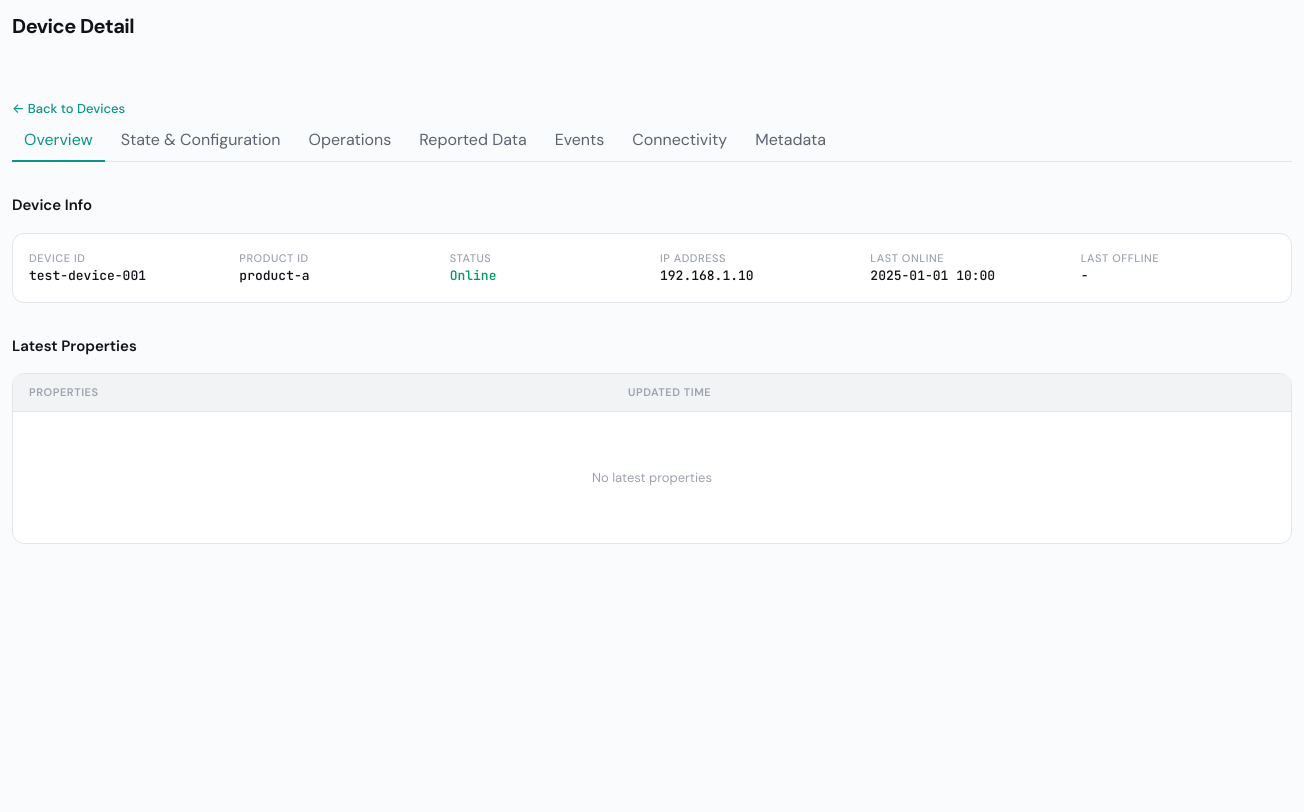
Reported Data section › renders property history table with mock data after switching views
Step 1. Click the tab "Reported Data" → (473, 141), box [407,120,539,162]
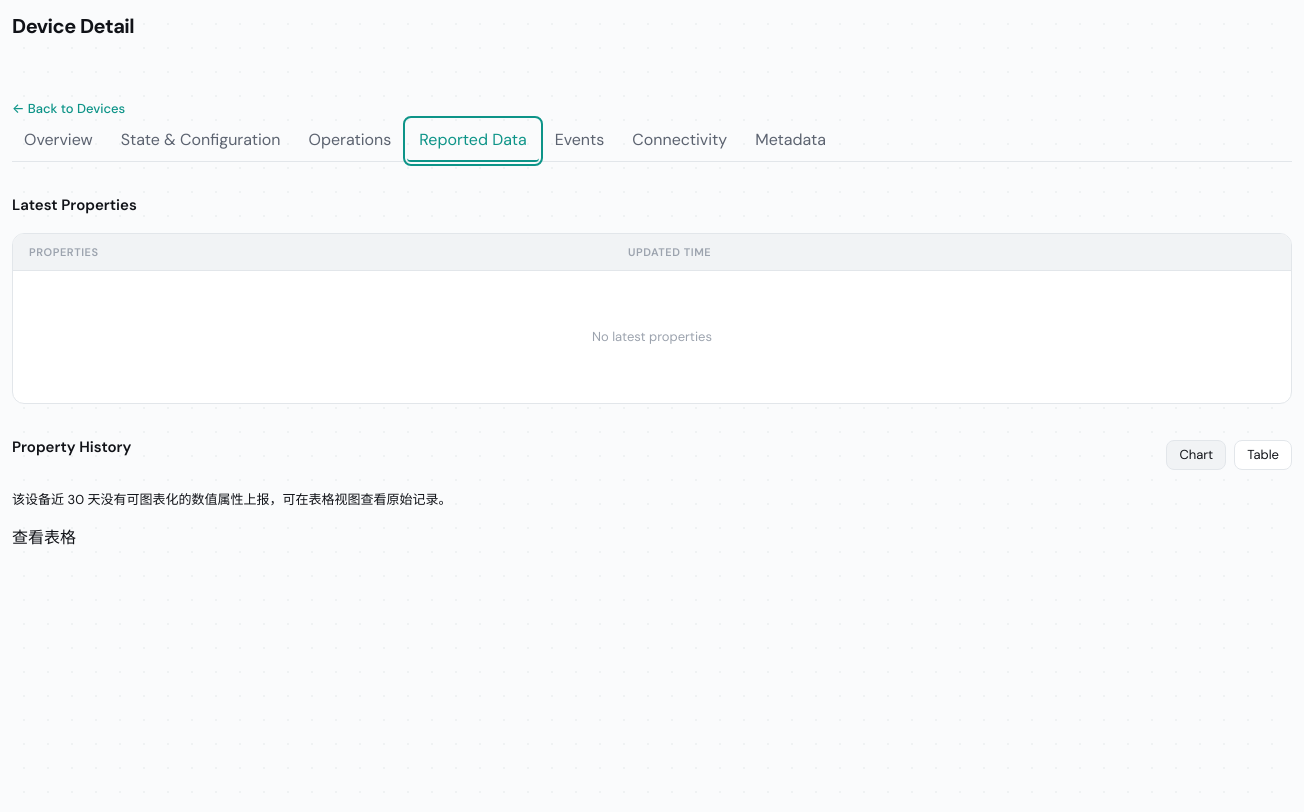
Step 2. Click the button with test id "property-history-view-table" → (1263, 455), box [1234,440,1292,470]
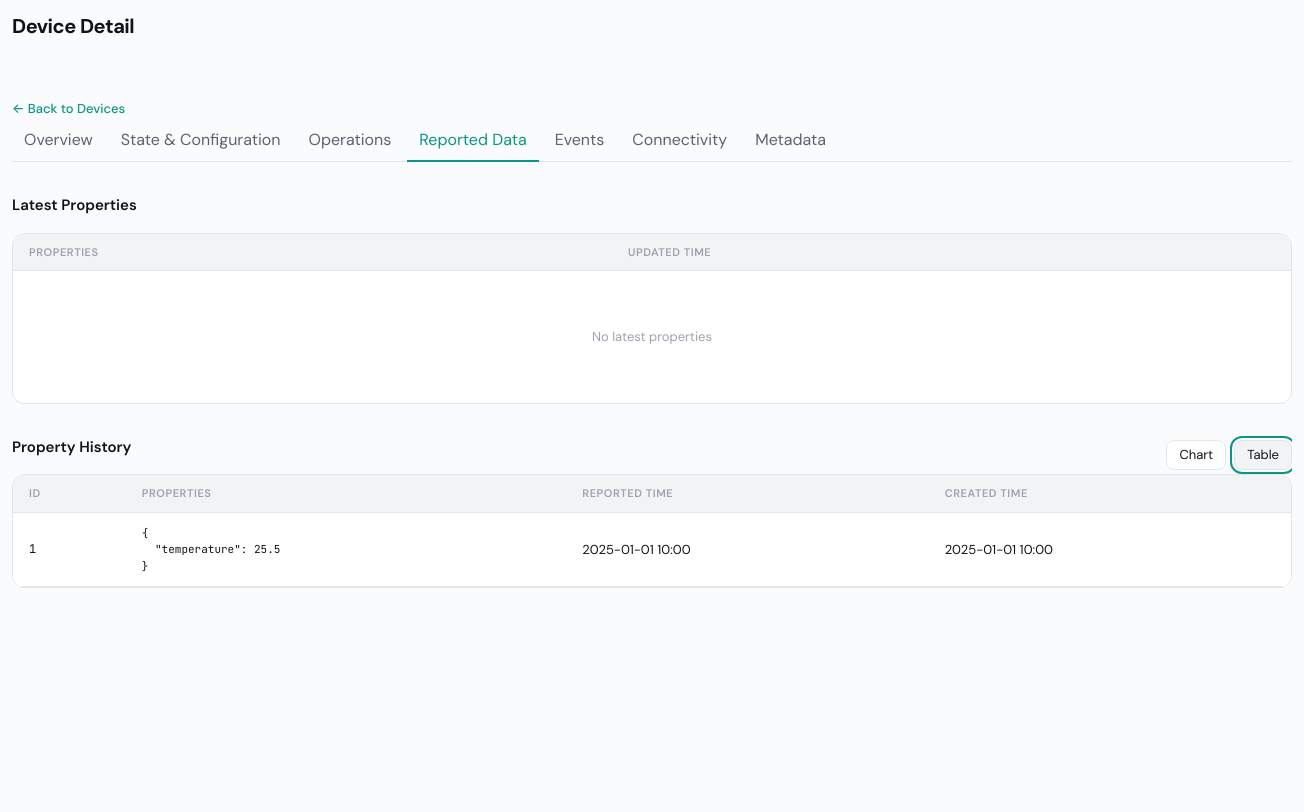
Now the text "1" is shown, box [13,512,126,586]
Now the text "{ \"temperature\": 25.5 }" is shown, box [142,526,280,572]
